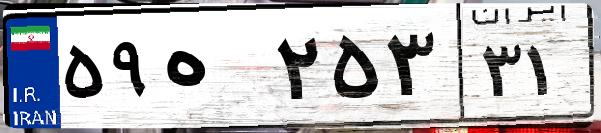1: (525, 38, 570, 115)
2: (270, 28, 330, 110)
3: (385, 28, 445, 110), (475, 38, 525, 113)
5: (330, 28, 385, 110), (57, 26, 110, 100)
9: (110, 28, 158, 98)
ه: (158, 20, 270, 120)
